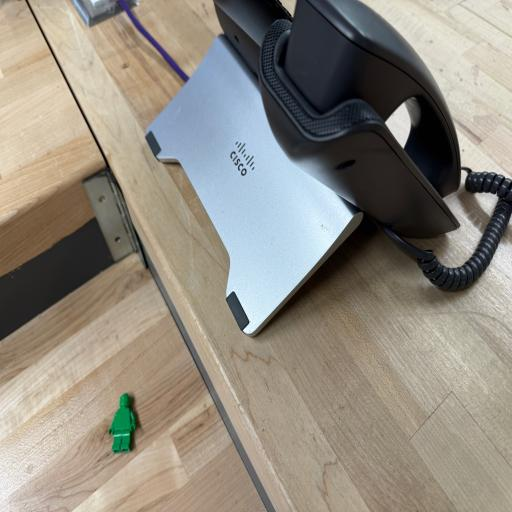Lego-Dude: (108, 393, 136, 453)
